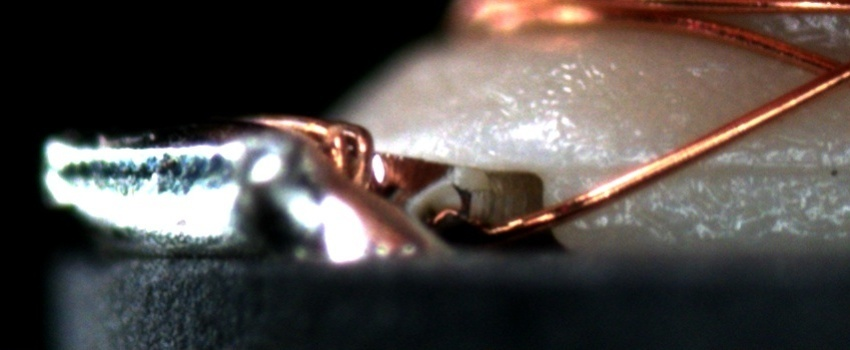CL: (795, 44, 849, 98)
DL: (574, 137, 849, 199)
TE: (239, 111, 381, 209)
